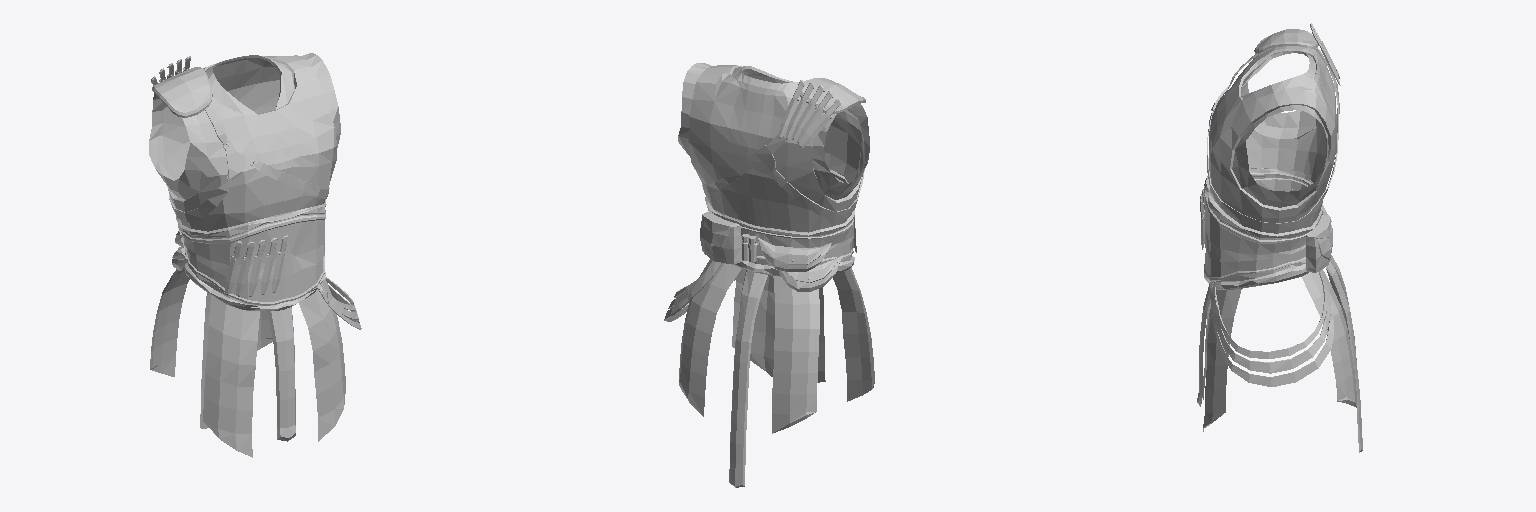
File: torso.obj
3 views of the same model, side by side, from view 1: azimuth 30°, elevation 25°; view 2: azimuth 150°, elevation 25°; view 3: azimuth 270°, elevation 25° (orthographic).
Visible parts, largest first — view 1: Mesh.011_Torso; view 2: Mesh.011_Torso; view 3: Mesh.011_Torso.
Part boxes in pixels (bbox=[...]): Mesh.011_Torso: bbox=[149, 53, 361, 457]; Mesh.011_Torso: bbox=[664, 63, 874, 487]; Mesh.011_Torso: bbox=[1197, 23, 1362, 452].
Bounding box in the file's own units: 1.36 × 2.8 × 1.05.